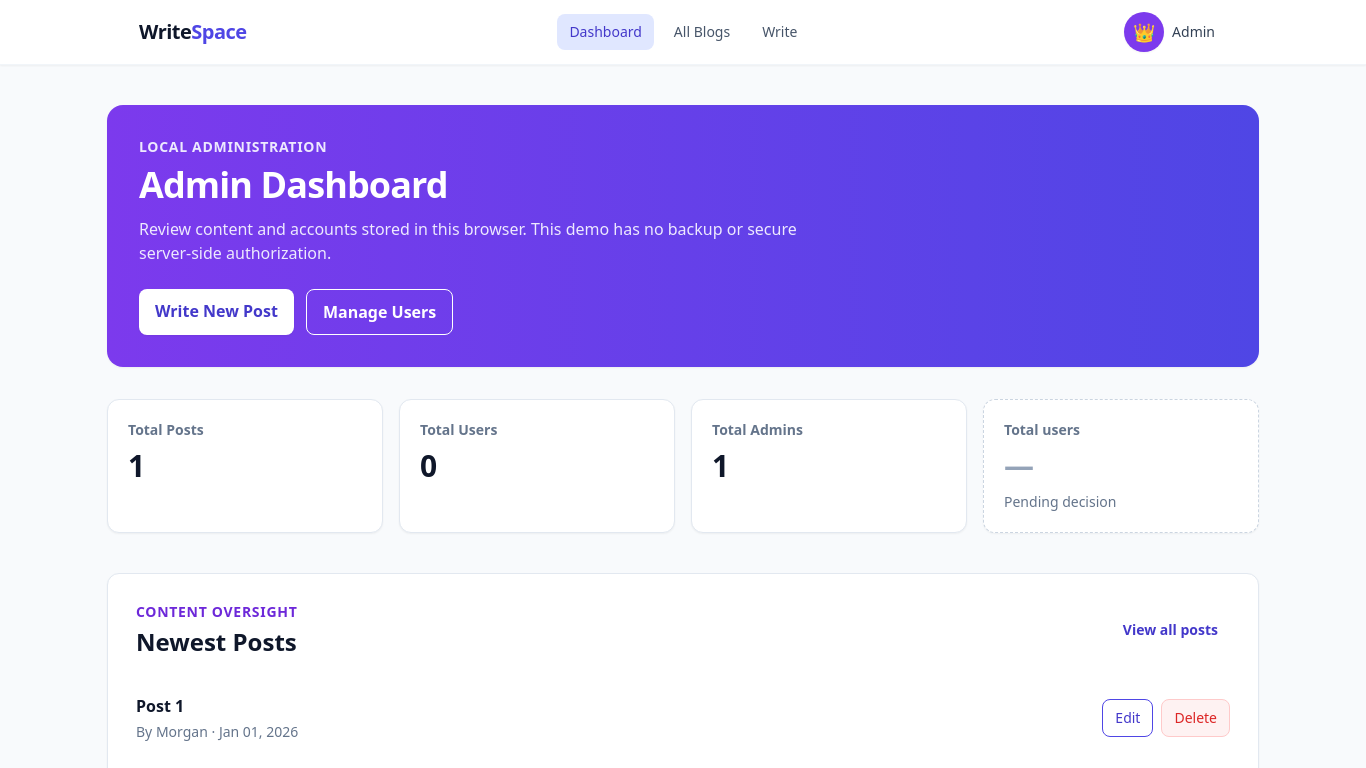
Test: admin route and dashboard › rechecks current admin and post existence before confirmation
Click the button with aria-label "Delete Post 1" at (1196, 718), box left=1161, top=699, right=1230, bottom=737
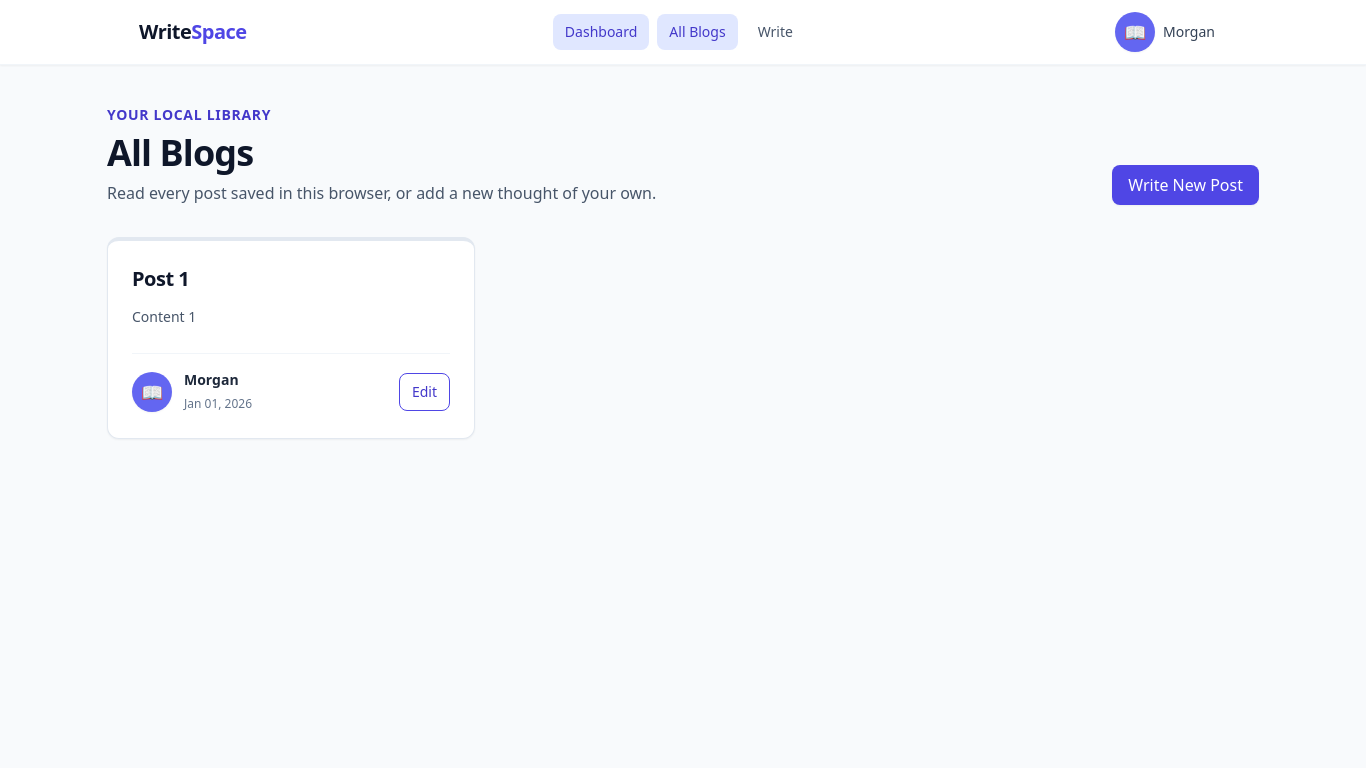
Expected: the heading "All Blogs" is shown, left=107, top=128, right=253, bottom=177
